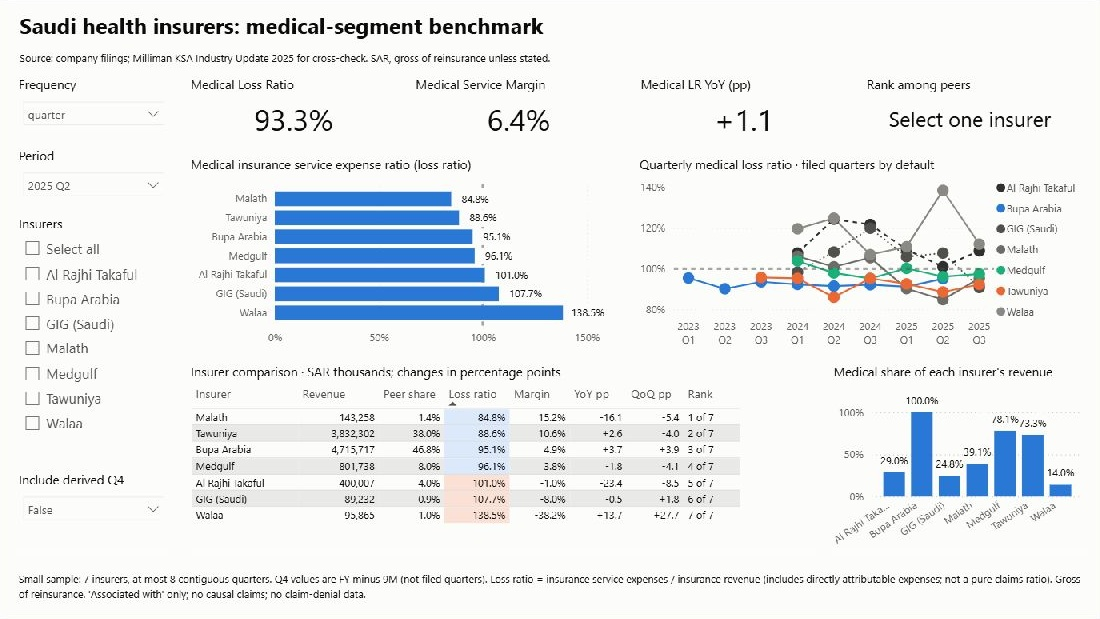

Layout of this report page (visuals, bound fields, positions):
{"tool":"powerbi","page":{"name":"Medical insurer benchmark","canvas":[1280,720],"ordinal":0},"visuals":[{"type":"textbox","box":[18,8,1244,44],"z":0},{"type":"textbox","box":[18,53,1244,30],"z":1},{"type":"slicer","title":"Frequency","fields":{"Values":["dim_period.freq"]},"box":[16,88,184,75],"z":2},{"type":"slicer","title":"Period","fields":{"Values":["dim_period.period_label"]},"box":[16,171,184,82],"z":3},{"type":"slicer","title":"Insurers","fields":{"Values":["dim_insurer.insurer_name"]},"box":[16,250,184,284],"z":4},{"type":"slicer","title":"Include derived Q4","fields":{"Values":["fact_insurer_period.is_derived"]},"box":[16,548,184,98],"z":5},{"type":"card","title":"Medical Loss Ratio","fields":{"Values":["dim_insurer.Medical Loss Ratio"]},"box":[216,88,250,83],"z":6},{"type":"card","title":"Medical Service Margin","fields":{"Values":["dim_insurer.Medical Service Margin"]},"box":[478,88,250,83],"z":7},{"type":"card","title":"Medical LR YoY (pp)","fields":{"Values":["dim_insurer.Medical LR YoY (pp)"]},"box":[740,88,250,83],"z":8},{"type":"card","title":"Rank among peers","fields":{"Values":["dim_insurer.Rank Label (card)"]},"box":[1002,88,250,83],"z":9},{"type":"clusteredBarChart","title":"Medical insurance service expense ratio (loss ratio)","fields":{"Category":["dim_insurer.insurer_name"],"Y":["dim_insurer.Medical Loss Ratio"]},"box":[216,181,510,230],"z":10},{"type":"lineChart","title":"Quarterly medical loss ratio · filed quarters by default","fields":{"Category":["dim_period.period_label"],"Series":["dim_insurer.insurer_name"],"Y":["dim_insurer.Medical Loss Ratio"]},"box":[738,181,526,230],"z":11},{"type":"tableEx","title":"Insurer comparison · SAR thousands; changes in percentage points","fields":{"Values":["dim_insurer.insurer_name","dim_insurer.Medical Revenue","dim_insurer.Medical Revenue Share of Peers","dim_insurer.Medical Loss Ratio","dim_insurer.Medical Service Margin","dim_insurer.Medical LR YoY (pp)","dim_insurer.Medical LR QoQ (pp)","dim_insurer.Rank Label"]},"box":[216,422,736,224],"z":12},{"type":"clusteredColumnChart","title":"Medical share of each insurer''s revenue","fields":{"Category":["dim_insurer.insurer_name"],"Y":["dim_insurer.Medical Share of Revenue"]},"box":[964,422,300,224],"z":13},{"type":"textbox","box":[16,659,1248,54],"z":14}]}

Visuals, with their boxes in screenshot pixels (x1, y1, x2, y2), scaled from the page's 1280x720 canvas onto the 1100x619 screenshot:
textbox: [15,7,1085,45]
textbox: [15,46,1085,71]
"Frequency" slicer: [14,76,172,140]
"Period" slicer: [14,147,172,218]
"Insurers" slicer: [14,215,172,459]
"Include derived Q4" slicer: [14,471,172,555]
"Medical Loss Ratio" card: [186,76,400,147]
"Medical Service Margin" card: [411,76,626,147]
"Medical LR YoY (pp)" card: [636,76,851,147]
"Rank among peers" card: [861,76,1076,147]
"Medical insurance service expense ratio (loss ratio)" clusteredBarChart: [186,156,624,353]
"Quarterly medical loss ratio · filed quarters by default" lineChart: [634,156,1086,353]
"Insurer comparison · SAR thousands; changes in percentage points" tableEx: [186,363,818,555]
"Medical share of each insurer''s revenue" clusteredColumnChart: [828,363,1086,555]
textbox: [14,567,1086,613]
